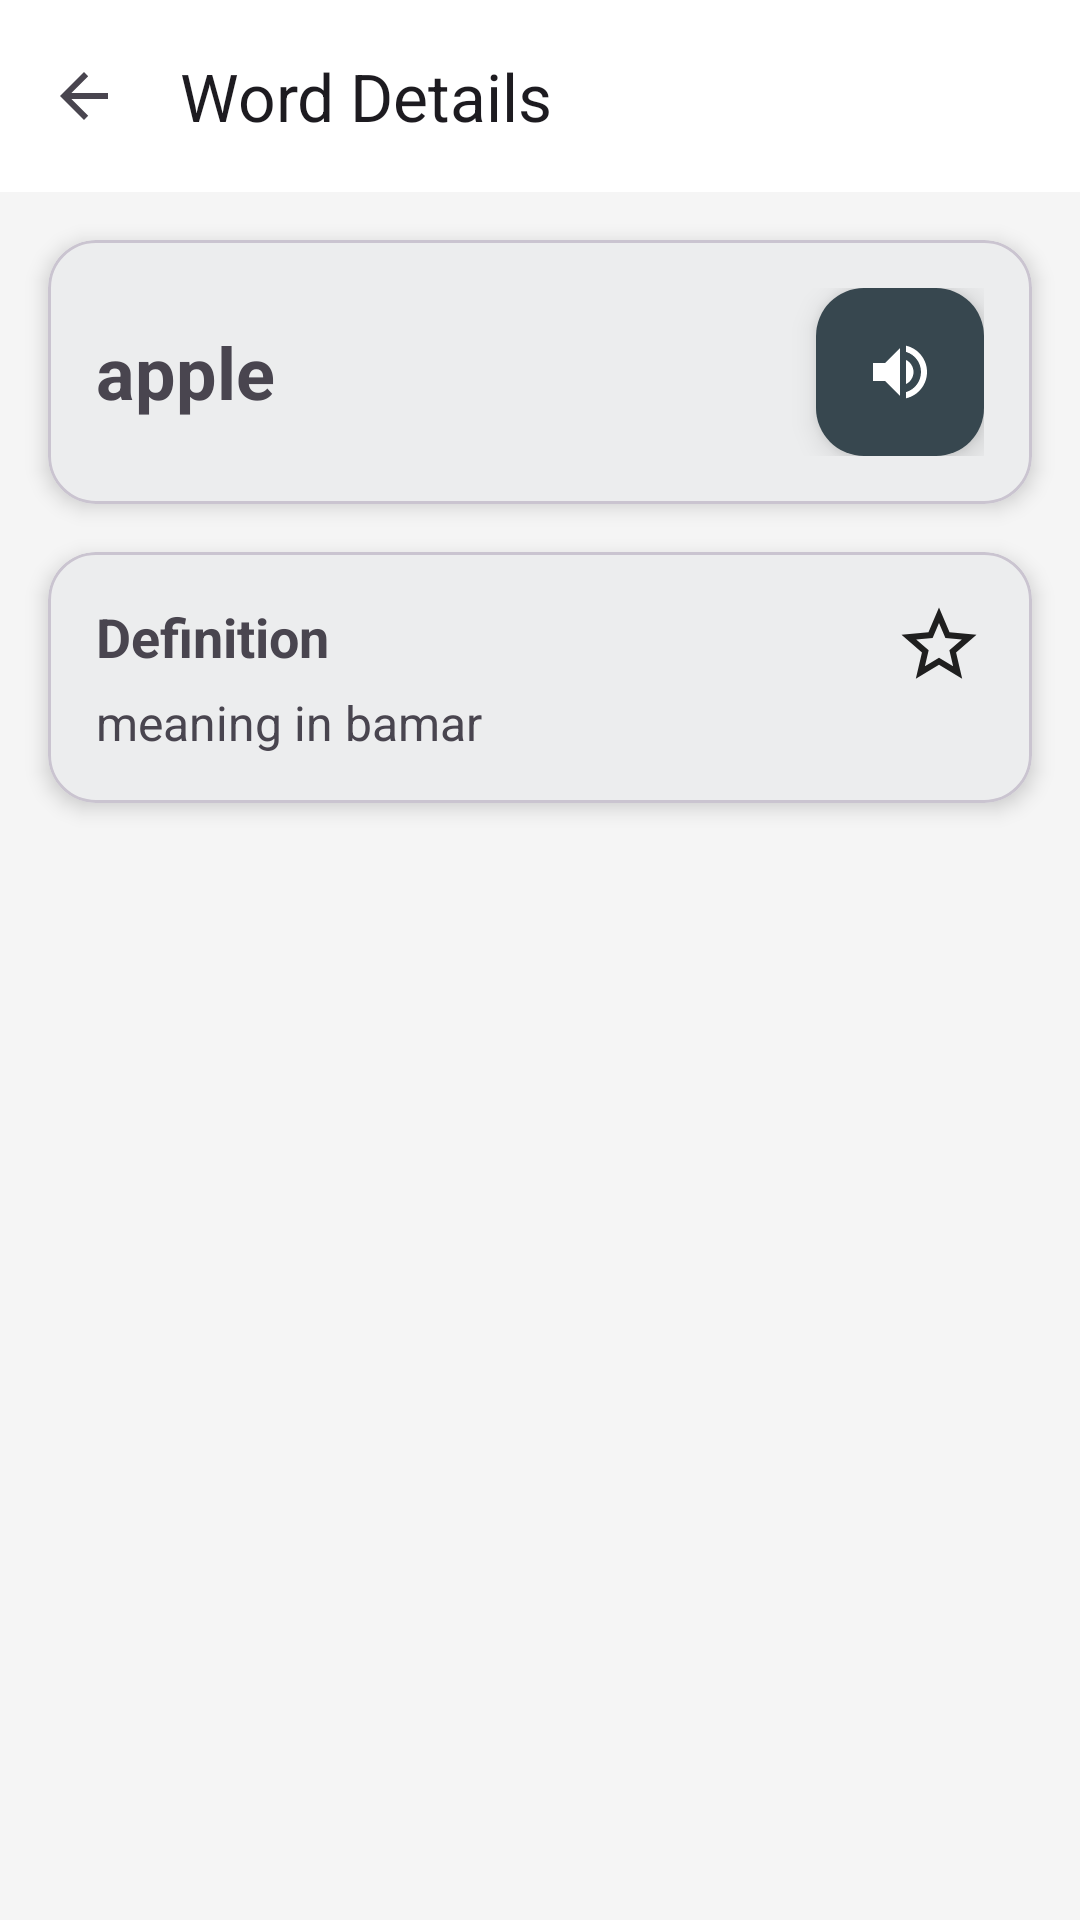

Icon bounding boxes for this 1080 × 1920 phone screenshot, format box=[x1, y1, x2, y2]:
favourite: box=[902, 608, 976, 679]
Speak: box=[816, 288, 984, 456]
